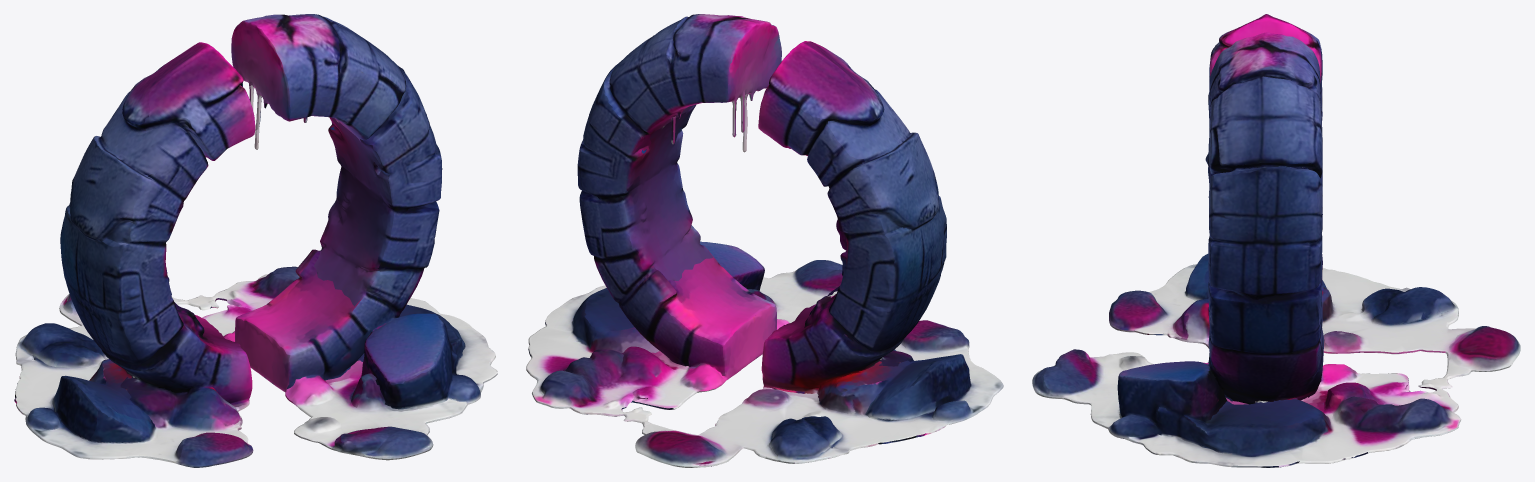
Rendered from broken-ring-generated-2026-05-17T21-20-11-613Z.high.glb.
3 renders of one model, left to right at view 1: azimuth 30°, elevation 25°; view 2: azimuth 150°, elevation 25°; view 3: azimuth 270°, elevation 25°, orthographic. The views are drawn at different scales.
Visible parts, largest first — view 1: temp_mesh.ply; view 2: temp_mesh.ply; view 3: temp_mesh.ply.
Boxes of the visible parts, bbox=[...] form: temp_mesh.ply: bbox=[14, 14, 497, 467]; temp_mesh.ply: bbox=[526, 14, 1003, 467]; temp_mesh.ply: bbox=[1032, 14, 1520, 467].
Bounding box in the file's own units: 1.93 × 1.47 × 1.93.
1 material, 1 textured.
